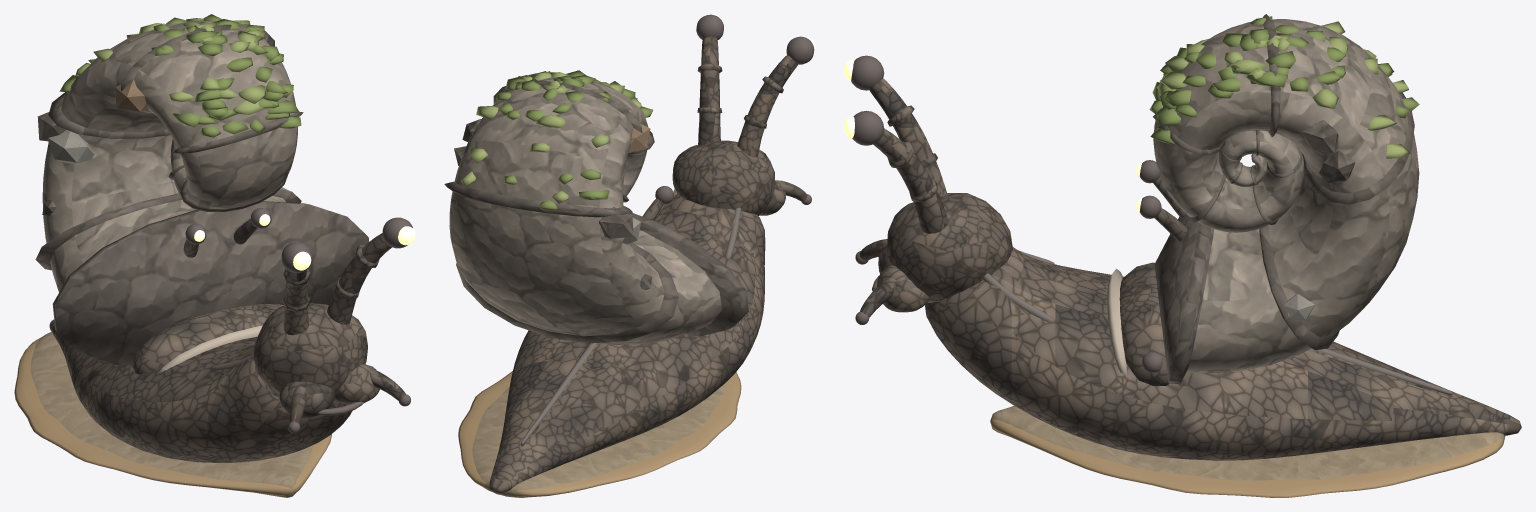
The model's file is rock_snail_v0.glb.
3 renders of one model, left to right at view 1: azimuth 30°, elevation 25°; view 2: azimuth 150°, elevation 25°; view 3: azimuth 270°, elevation 25°, orthographic. The views are drawn at different scales.
Visible parts, largest first — view 1: body, soft_body, soft_stalk_r, soft_stalk_l, peek; view 2: body, soft_body, soft_stalk_l, soft_stalk_r, peek; view 3: soft_body, body, soft_stalk_r, soft_stalk_l, peek.
Boxes of the visible parts, x1=… form: body: x1=35, y1=14, x2=369, y2=365; soft_body: x1=14, y1=303, x2=410, y2=497; soft_stalk_r: x1=327, y1=217, x2=415, y2=324; soft_stalk_l: x1=281, y1=242, x2=312, y2=335; peek: x1=183, y1=208, x2=271, y2=257; body: x1=444, y1=70, x2=748, y2=345; soft_body: x1=458, y1=140, x2=811, y2=497; soft_stalk_l: x1=737, y1=36, x2=815, y2=157; soft_stalk_r: x1=696, y1=14, x2=723, y2=145; peek: x1=642, y1=186, x2=673, y2=220; soft_body: x1=855, y1=193, x2=1521, y2=497; body: x1=1149, y1=14, x2=1419, y2=384; soft_stalk_r: x1=844, y1=110, x2=948, y2=233; soft_stalk_l: x1=844, y1=55, x2=946, y2=196; peek: x1=1136, y1=160, x2=1187, y2=242.
Bounding box in the file's own units: 0.9271 × 1.12 × 1.61.
Materials: 13 (6 with a texture image).
